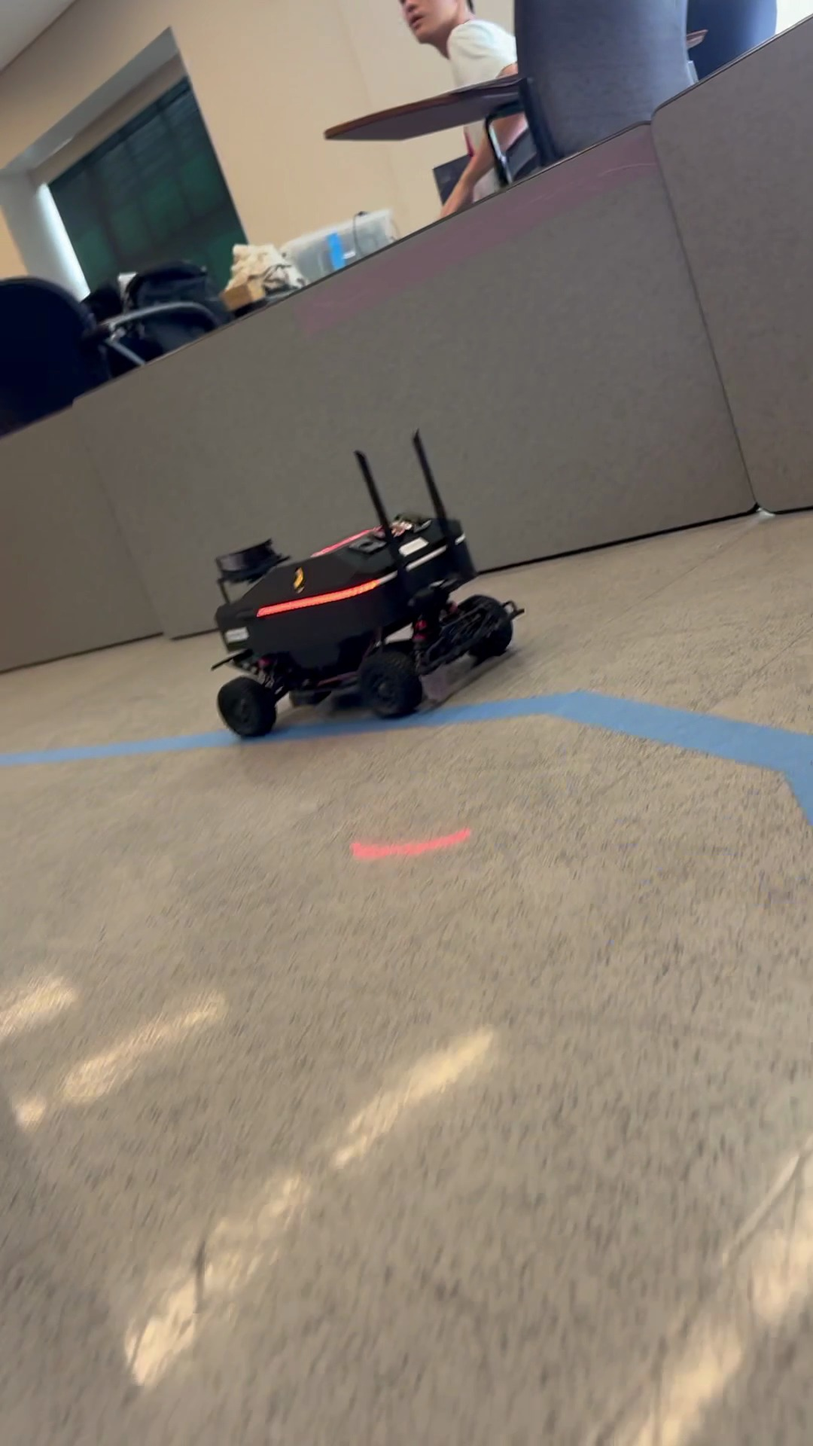racecar: (207, 429, 521, 737)
